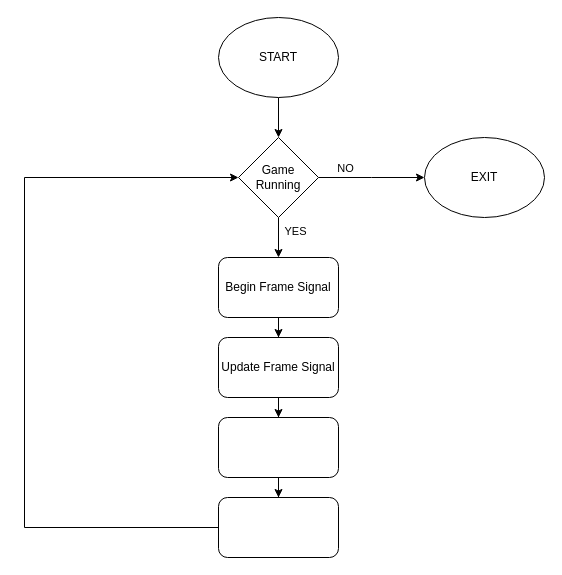
Image size: 562x575. Some labels were removed from this diagram. The shapes that lost their labels are listed below. From the top down, each one's centre as x and y in pixels, then its label:
At (x=278, y=447): "Update ImGui Signal".
At (x=278, y=527): "End Frame Signal".
